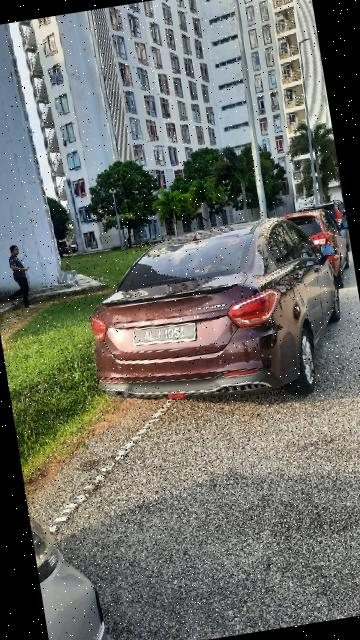License_Plate: (122, 314, 204, 356)
car: (70, 192, 360, 435)
